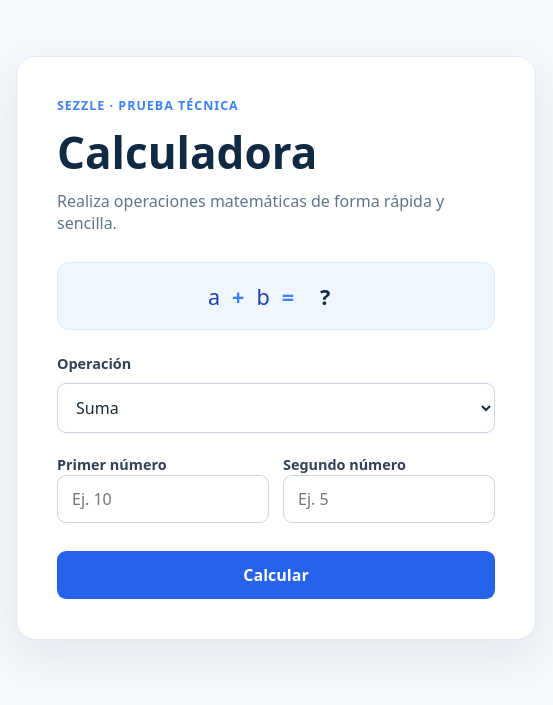
Test: Calculator › shows success
In the field labelled "Primer número": (163, 499) [57,475,269,523], type "10"
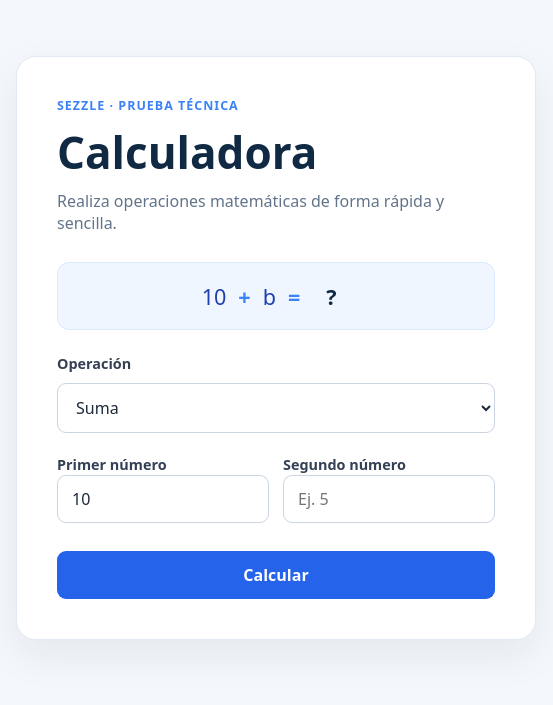
In the field labelled "Segundo número": (389, 499) [283,475,495,523], type "5"
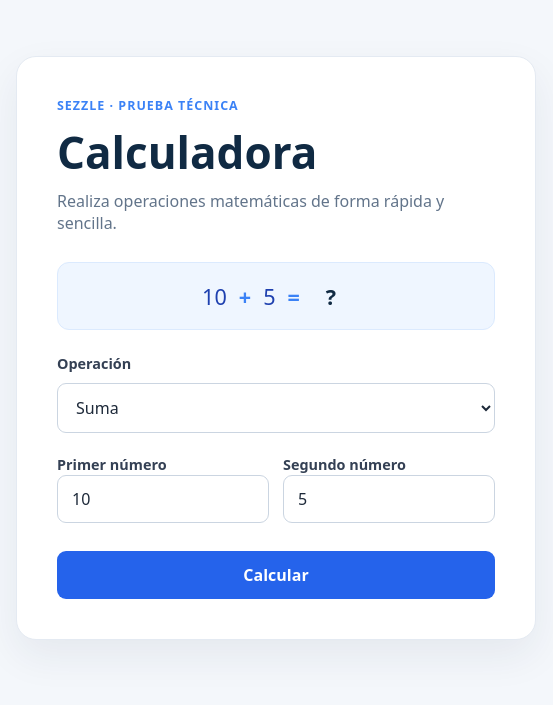
Click the button "Calcular": click(276, 575) [57,551,495,599]
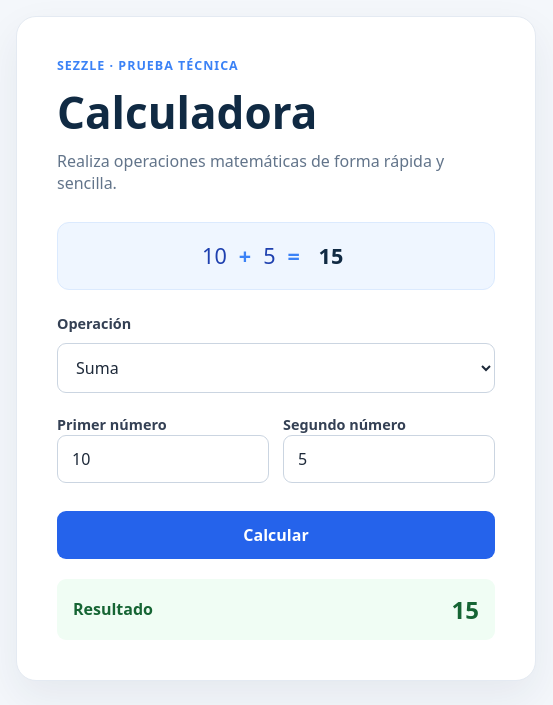
Expected: the message shows "15", [452,592,479,626]
